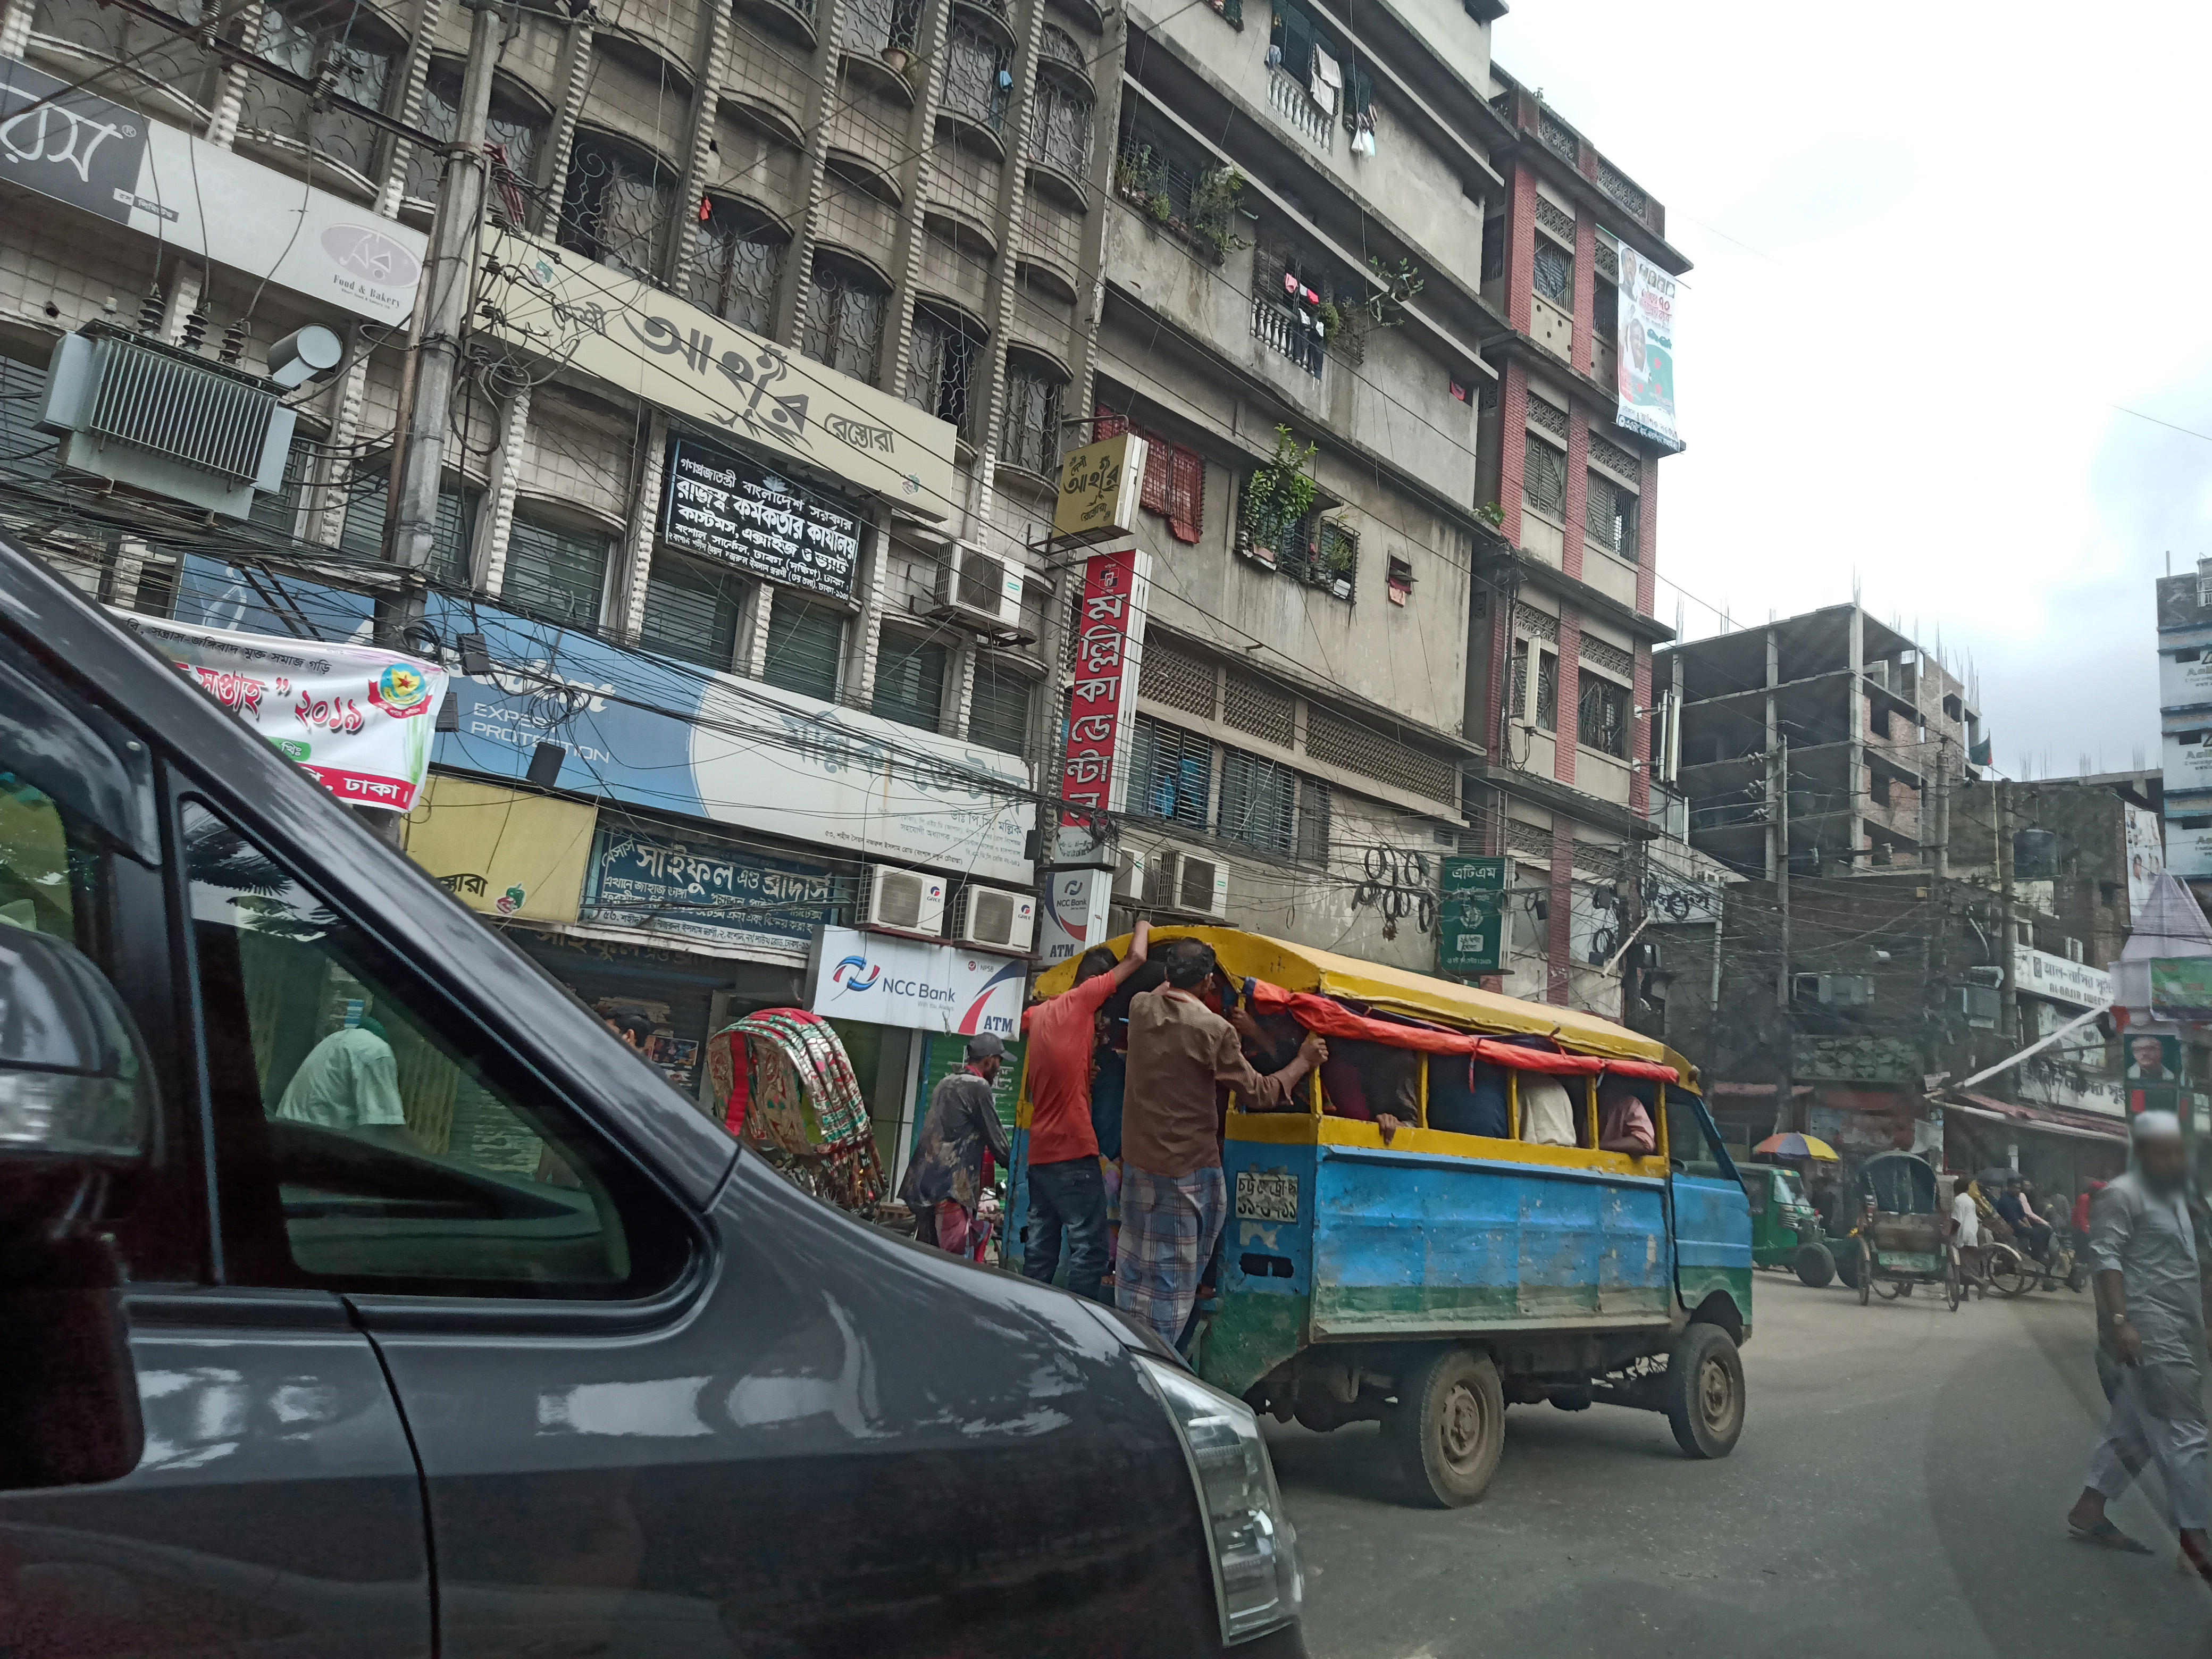car: (7, 530, 1312, 1659), (695, 990, 1017, 1267)
cng: (1737, 1166, 1838, 1284)
leguna: (1014, 922, 1756, 1506)
rickshaw: (1844, 1134, 1972, 1312), (1968, 1162, 2104, 1297)
